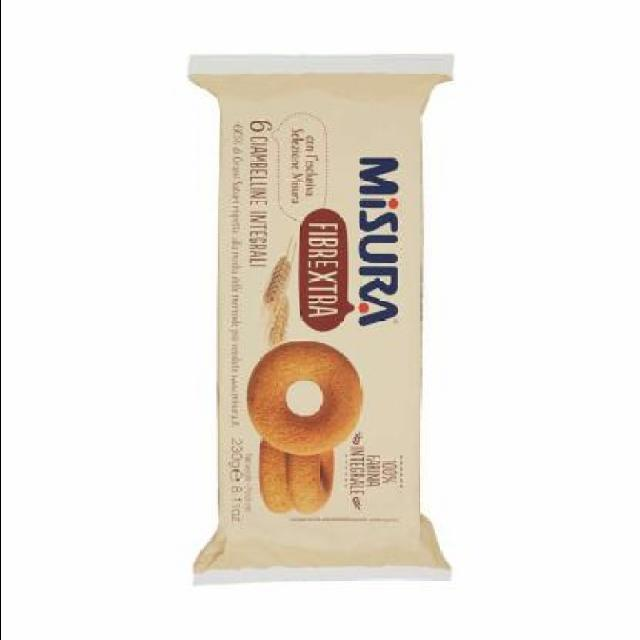Merendine: (182, 51, 454, 595)
